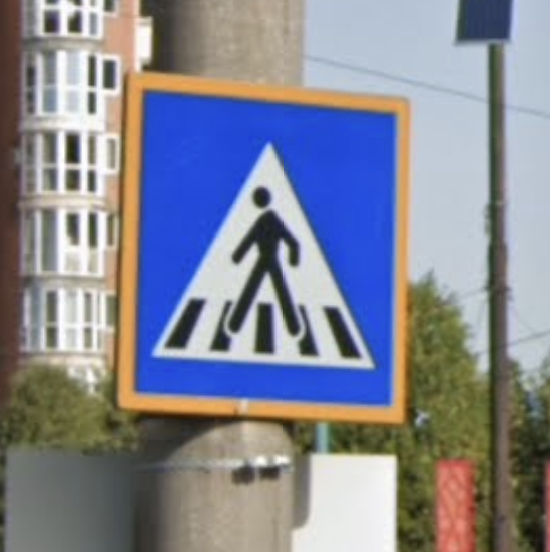trecere_pietoni: (129, 62, 407, 423)
